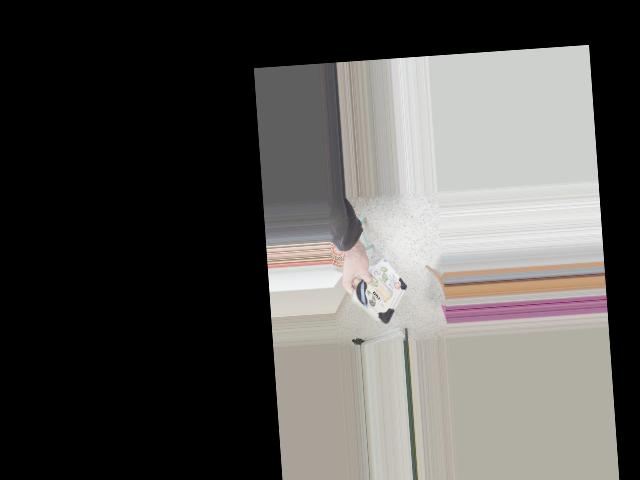cheese: (338, 266, 415, 325)
